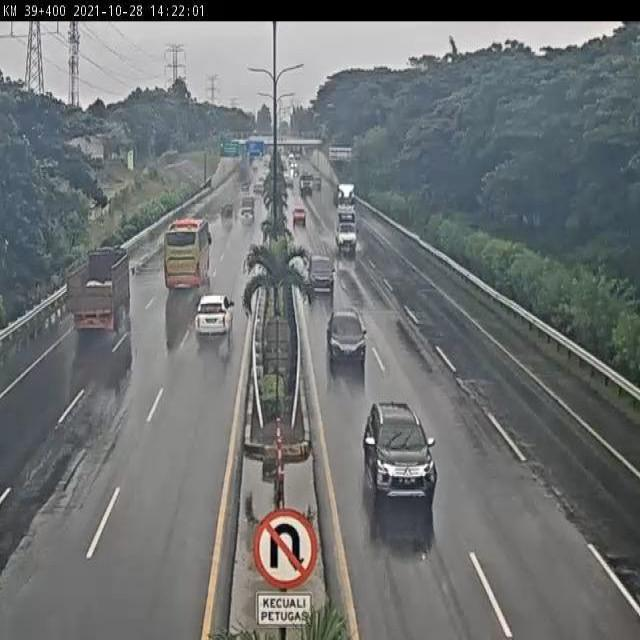big bus: (162, 216, 213, 292)
car: (363, 398, 438, 502), (326, 307, 368, 368), (193, 294, 237, 342), (306, 247, 336, 296)
truck-l-: (69, 245, 132, 334)
truck-s-: (334, 212, 358, 259)
